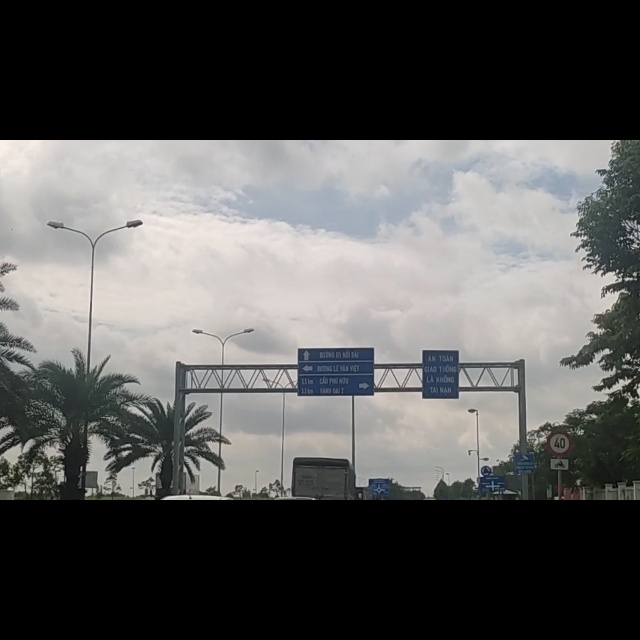bien_chi_dan: (547, 513, 573, 559), (547, 563, 571, 590)
